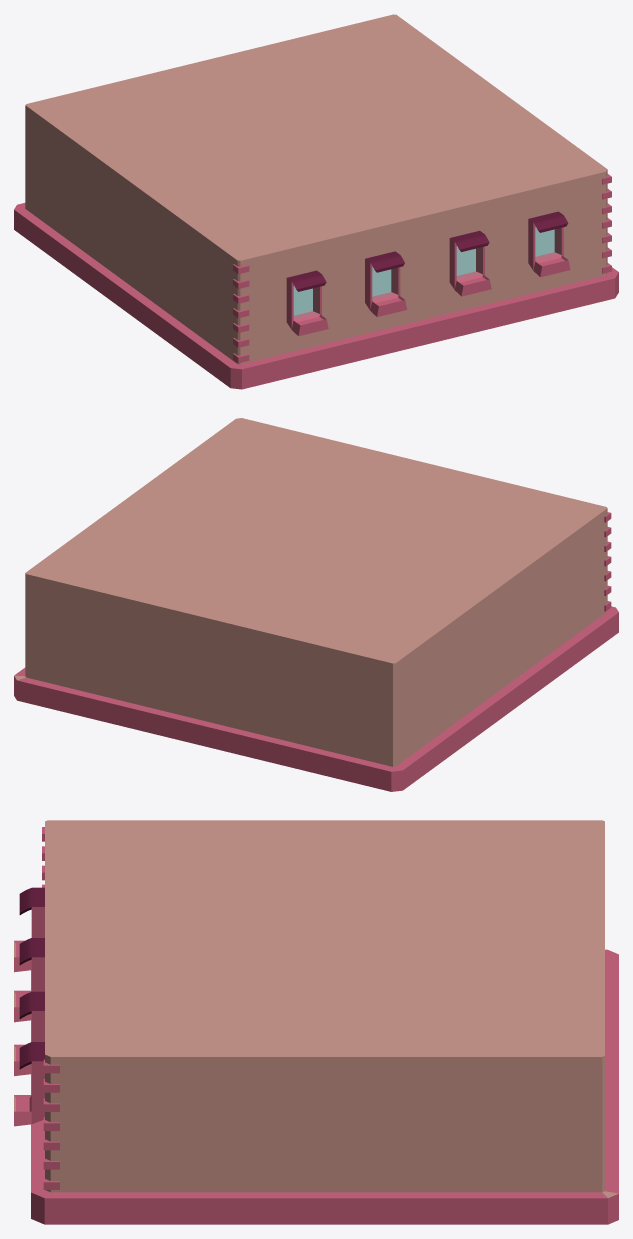
3 views of the same model, one above another, from view 1: azimuth 30°, elevation 25°; view 2: azimuth 150°, elevation 25°; view 3: azimuth 270°, elevation 25° (orthographic). The views are drawn at different scales.
Parts seen in each view (by area): view 1: pCube23; view 2: pCube23; view 3: pCube23.
Part boxes in pixels (bbox=[...]): pCube23: bbox=[14, 14, 618, 389]; pCube23: bbox=[14, 418, 618, 791]; pCube23: bbox=[14, 820, 618, 1224].
Size of the model in its own units: 16.8 by 5.1 by 17.29.
